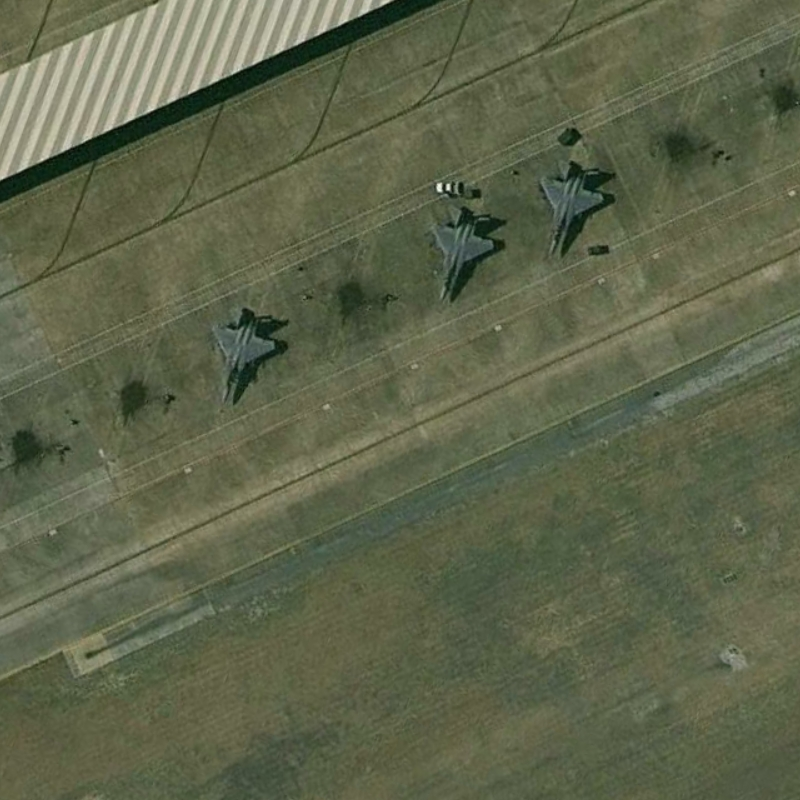A13: (421, 199, 503, 307), (537, 157, 613, 264), (204, 305, 282, 407)
